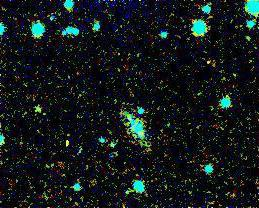star: (54, 131, 84, 161)
